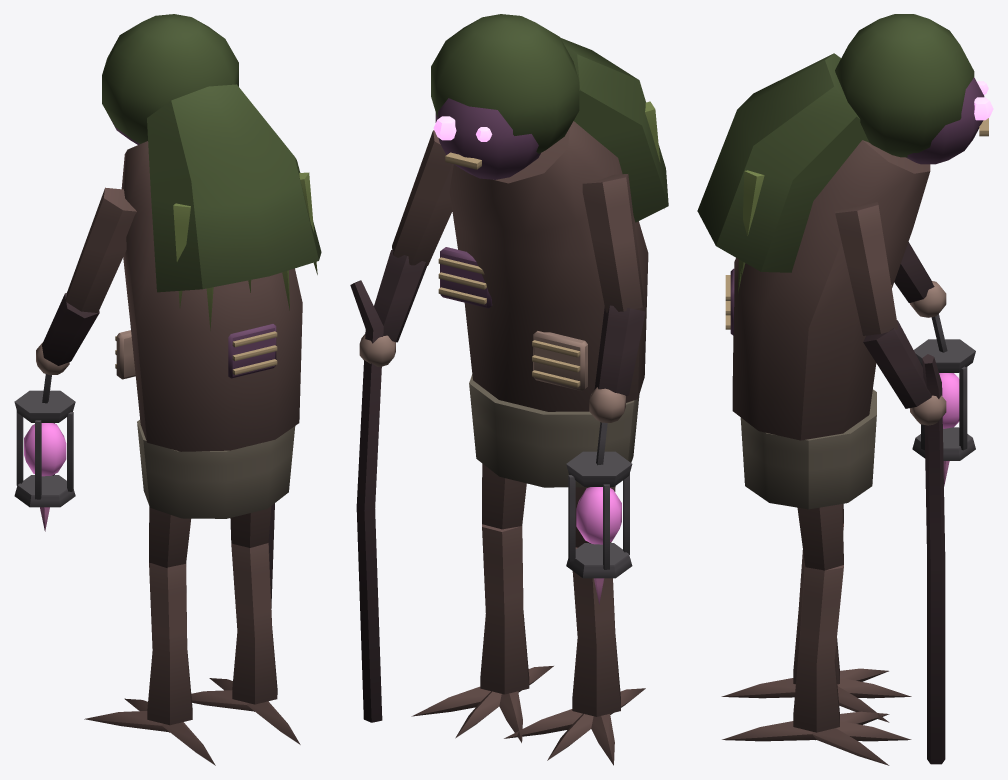
File: mob_rot_mender.fbx
3 views of the same model, side by side, from view 1: azimuth 30°, elevation 25°; view 2: azimuth 150°, elevation 25°; view 3: azimuth 270°, elevation 25° (orthographic). The views are drawn at different scales.
Parts seen in each view (by area): view 1: Body, Head, KneeL, KneeR, ExtraLantern, ArmL, ForearmL, LegL, ExtraLantern_Glow_Bloom, LegR; view 2: Body, Head, ForearmR, KneeR, KneeL, ArmL, ExtraLantern, ArmR, ForearmL, LegR, ExtraLantern_Glow_Bloom, Head_Glow_Blight; view 3: Body, Head, ForearmR, KneeR, ArmR, ExtraLantern, KneeL, LegR, ForearmL, ExtraLantern_Glow_Bloom.
Part boxes in pixels (<box>): Body: <box>115,84,321,518</box>; Head: <box>102,14,238,144</box>; KneeL: <box>84,562,215,765</box>; KneeR: <box>191,543,300,744</box>; ExtraLantern: <box>14,374,75,531</box>; ArmL: <box>65,187,136,312</box>; ForearmL: <box>36,293,99,375</box>; LegL: <box>149,506,190,567</box>; ExtraLantern_Glow_Bloom: <box>24,423,66,476</box>; LegR: <box>230,506,271,547</box>; Body: <box>438,37,668,487</box>; Head: <box>431,14,579,179</box>; ForearmR: <box>350,250,426,722</box>; KneeR: <box>411,524,553,742</box>; KneeL: <box>504,547,645,765</box>; ArmL: <box>582,174,644,312</box>; ExtraLantern: <box>566,422,632,604</box>; ArmR: <box>392,130,453,265</box>; ForearmL: <box>589,305,645,422</box>; LegR: <box>482,463,526,529</box>; ExtraLantern_Glow_Bloom: <box>576,487,621,544</box>; Head_Glow_Blight: <box>433,116,492,141</box>; Body: <box>697,53,930,509</box>; Head: <box>835,14,988,164</box>; ForearmR: <box>863,320,946,764</box>; KneeR: <box>722,564,911,765</box>; ArmR: <box>834,202,898,335</box>; ExtraLantern: <box>912,314,975,486</box>; KneeL: <box>721,523,911,722</box>; LegR: <box>797,504,843,570</box>; ForearmL: <box>894,242,946,317</box>; ExtraLantern_Glow_Bloom: <box>939,373,959,428</box>.
Size of the model in its own units: 195 by 484 by 186.
3 materials, 1 textured.
